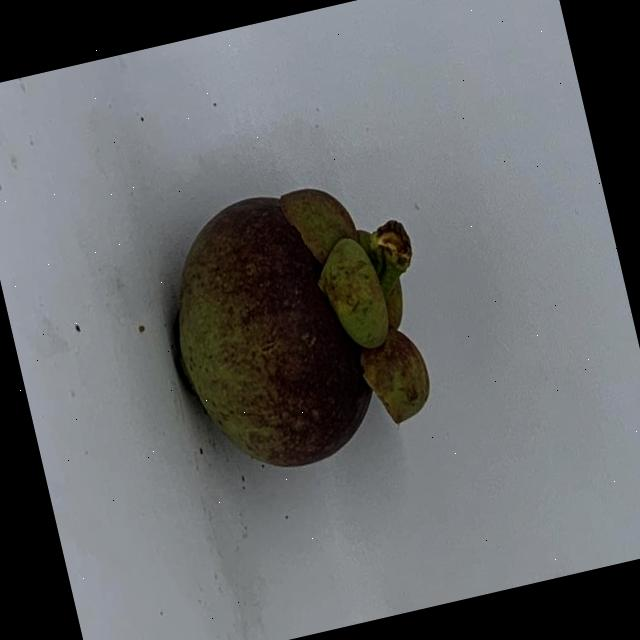mangosteen: (145, 142, 488, 510)
